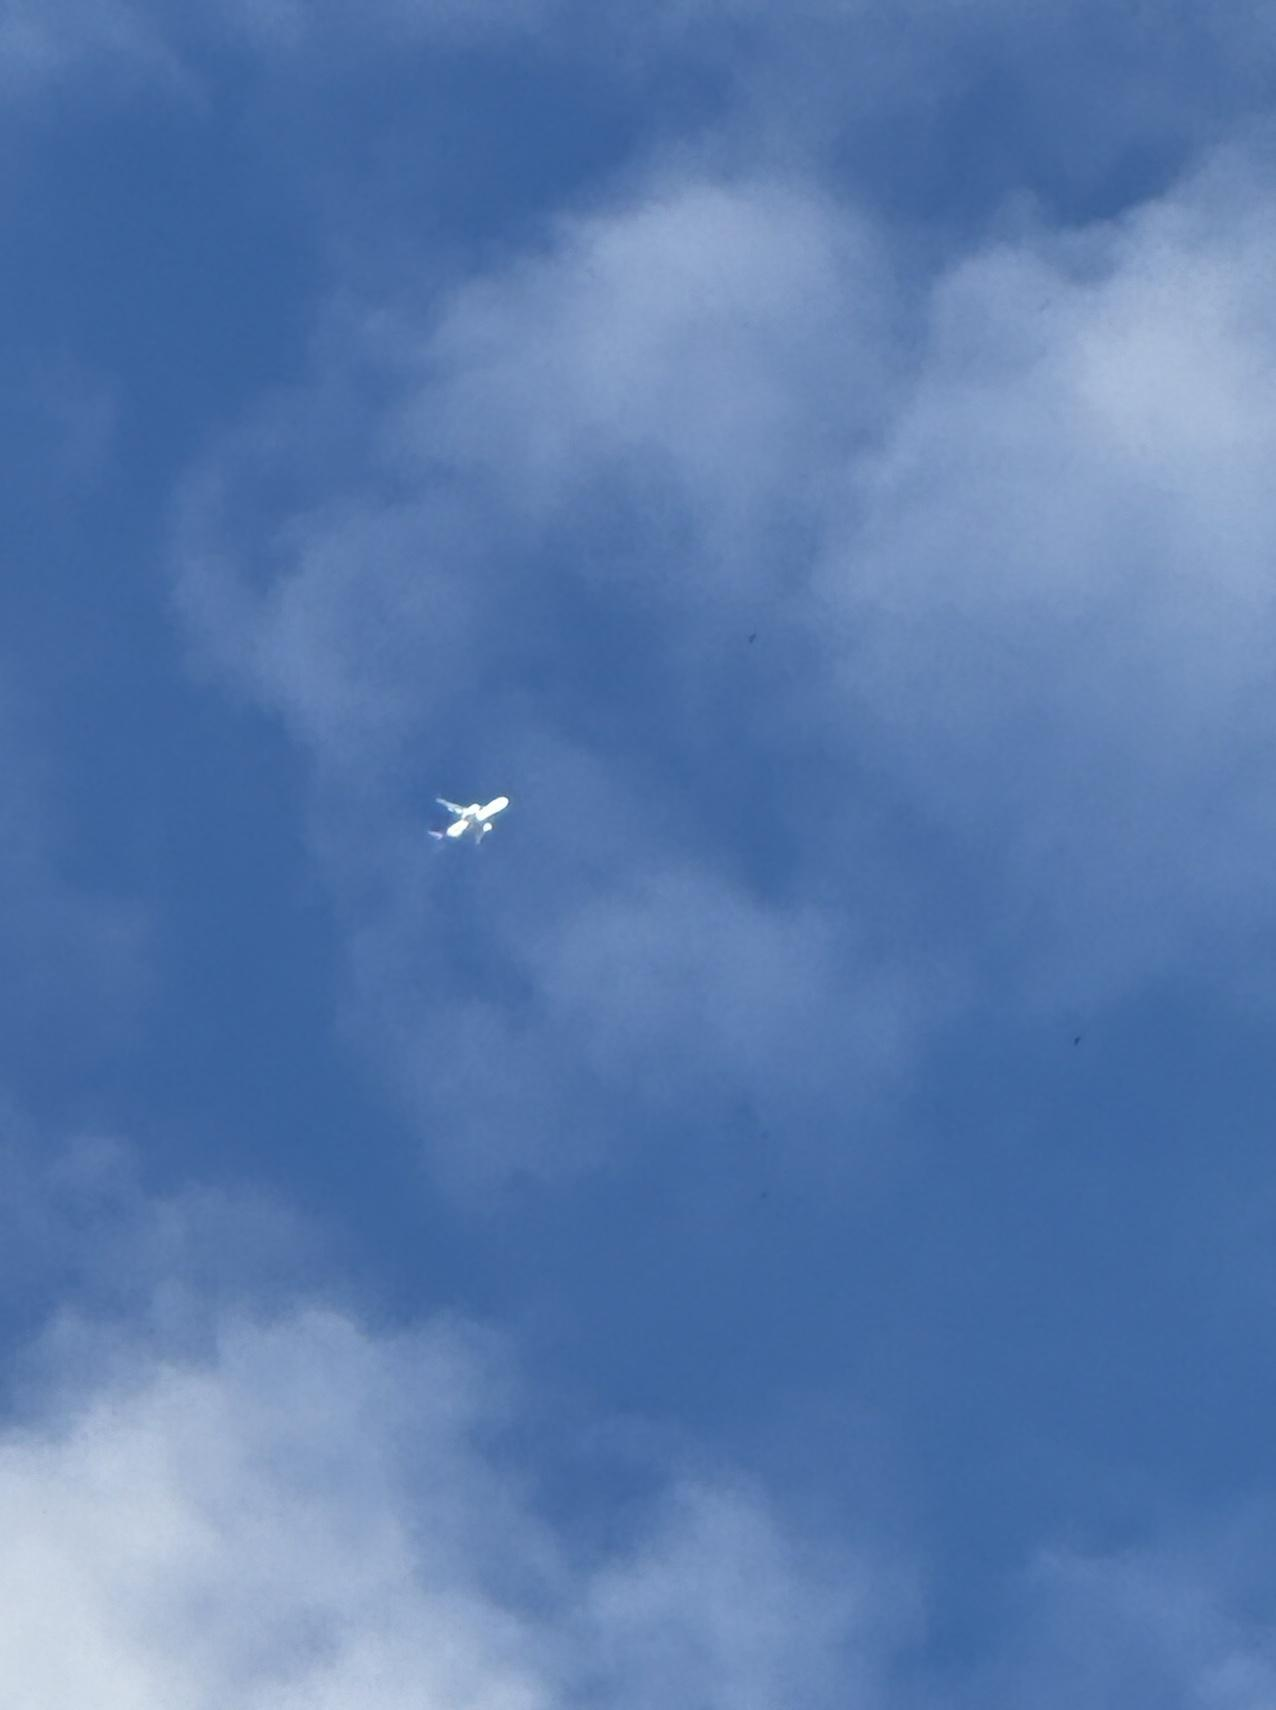Plane: (407, 741, 533, 884)
